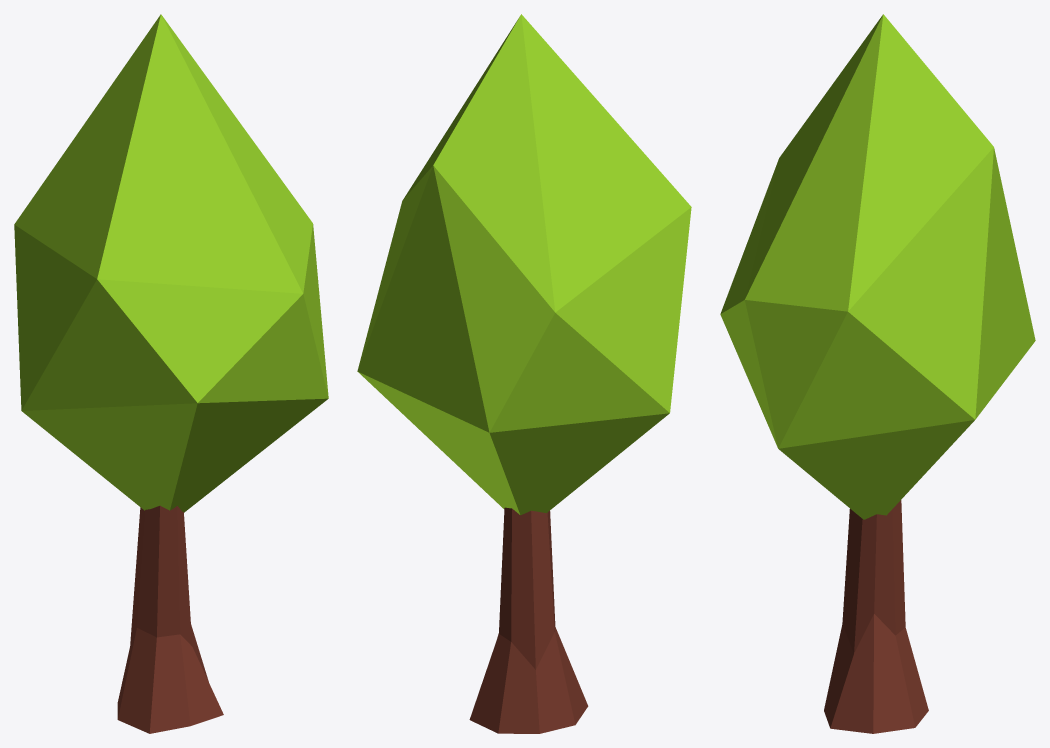
Rendered from object_landscape_tree_coniferous_young.glb.
The picture shows the model from 3 angles, left to right: view 1: azimuth 30°, elevation 25°; view 2: azimuth 150°, elevation 25°; view 3: azimuth 270°, elevation 25°; orthographic projection.
Visible parts, largest first — view 1: object_landscape_tree_coniferous_young; view 2: object_landscape_tree_coniferous_young; view 3: object_landscape_tree_coniferous_young.
Boxes of the visible parts, box(x1,y1,x2,y2) form: object_landscape_tree_coniferous_young: box(14, 14, 328, 733); object_landscape_tree_coniferous_young: box(357, 14, 691, 733); object_landscape_tree_coniferous_young: box(720, 14, 1035, 733).
Size of the model in its own units: 0.1741 by 0.4141 by 0.1699.
